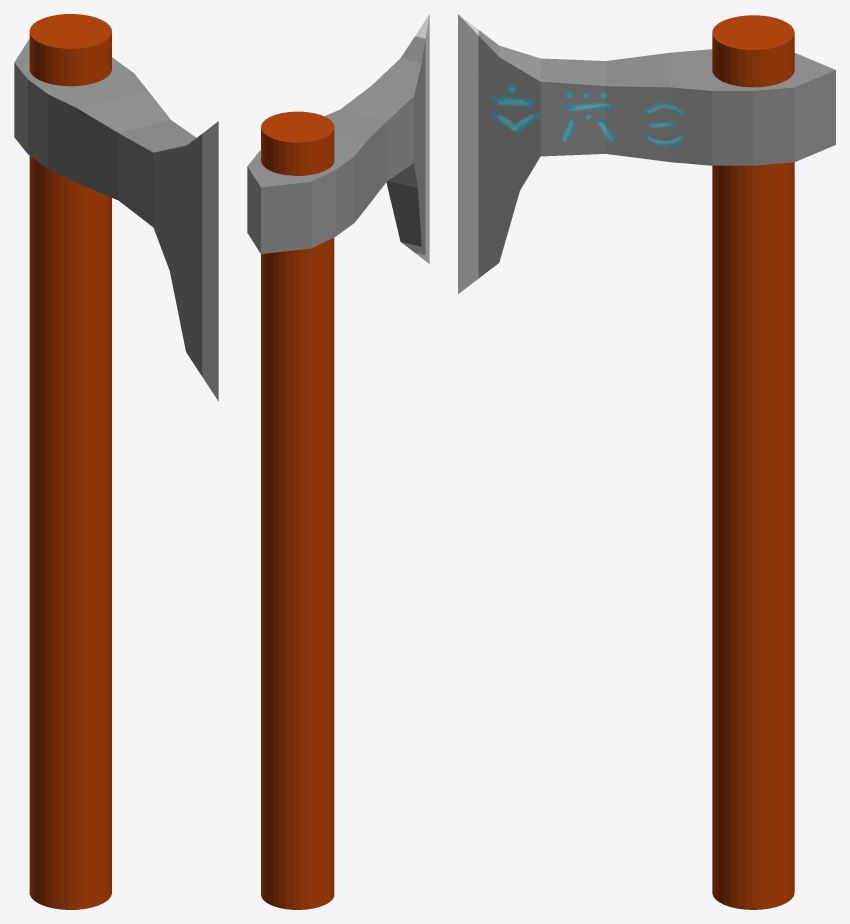
File: AxeBodySlayer.fbx
The picture shows the model from 3 angles, left to right: view 1: azimuth 30°, elevation 25°; view 2: azimuth 150°, elevation 25°; view 3: azimuth 270°, elevation 25°; orthographic projection. The views are drawn at different scales.
Visible parts, largest first — view 1: Cube; view 2: Cube; view 3: Cube.
Boxes of the visible parts, x1,y1,x2,y2 form: Cube: [14, 14, 218, 909]; Cube: [247, 14, 429, 909]; Cube: [458, 14, 835, 909].
Bounding box in the file's own units: 240 × 2350 × 916.
1 material, 1 textured.
